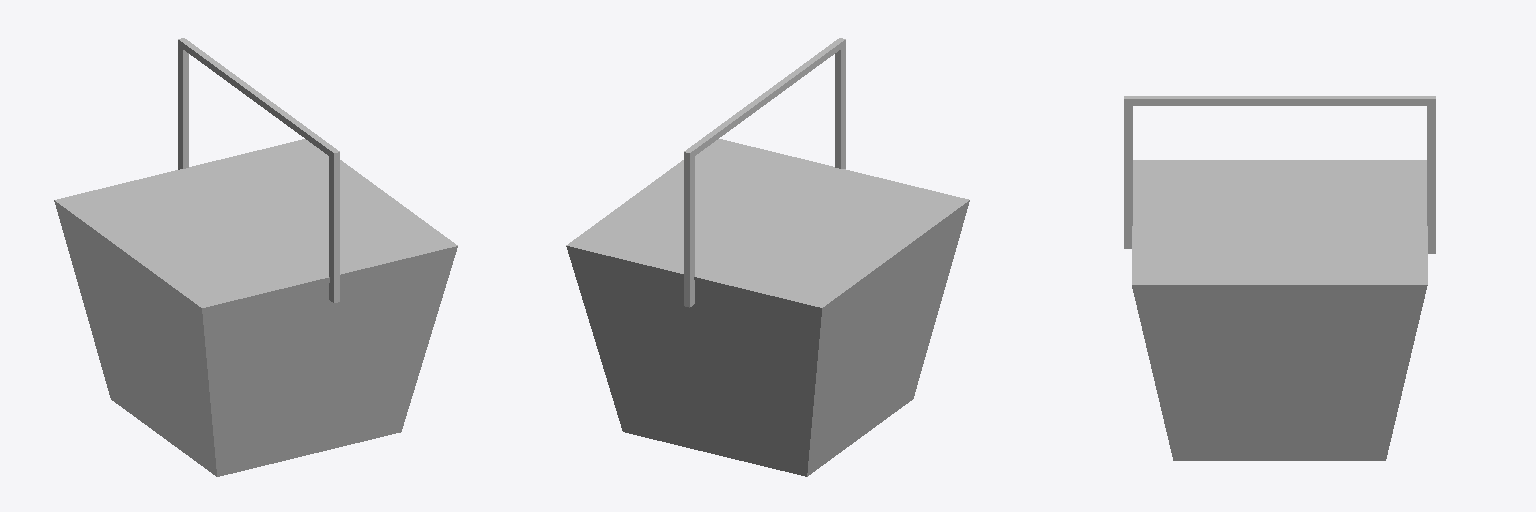
File: chinese.obj
3 views of the same model, side by side, from view 1: azimuth 30°, elevation 25°; view 2: azimuth 150°, elevation 25°; view 3: azimuth 270°, elevation 25° (orthographic).
Visible parts, largest first — view 1: Cube.003; view 2: Cube.003; view 3: Cube.003.
Part boxes in pixels (x1,y1,x2,y2): Cube.003: (54, 38, 457, 476); Cube.003: (566, 38, 969, 476); Cube.003: (1124, 96, 1435, 460).
Size of the model in its own units: 97.34 by 116 by 103.